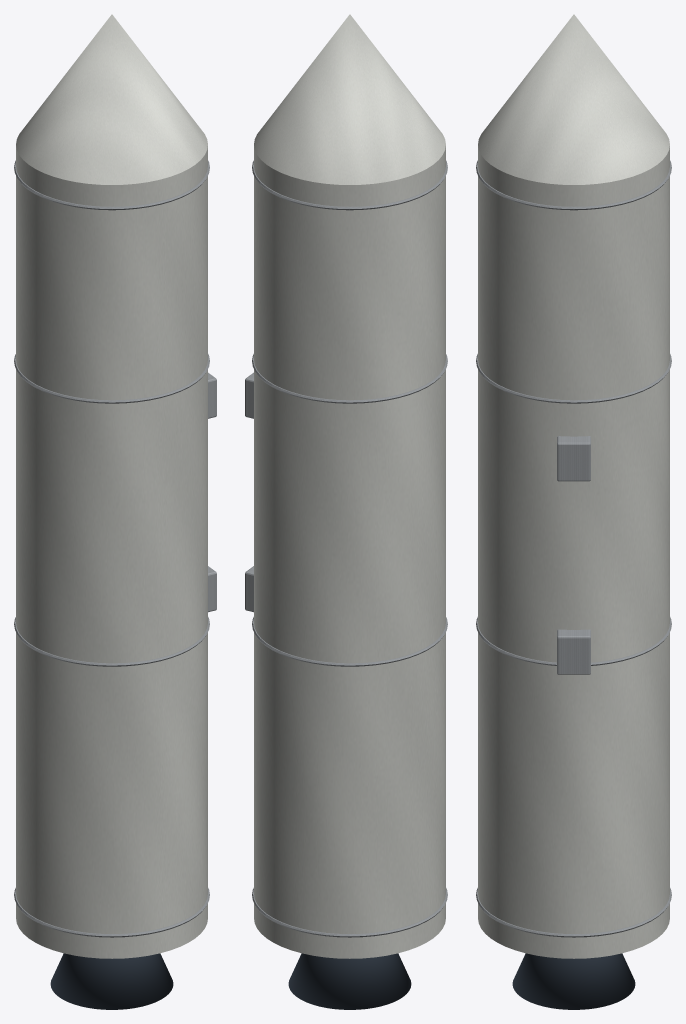
File: booster_medium.glb
3 views of the same model, side by side, from view 1: azimuth 30°, elevation 25°; view 2: azimuth 150°, elevation 25°; view 3: azimuth 270°, elevation 25° (orthographic).
Visible parts, largest first — view 1: Booster_Casing.001, Booster_Nose.001, Booster_Nozzle.001, Booster_CaseSeam.007, Booster_CaseSeam.006, Booster_CaseSeam.005, Booster_CaseSeam.004; view 2: Booster_Casing.001, Booster_Nose.001, Booster_Nozzle.001, Booster_CaseSeam.007, Booster_CaseSeam.006, Booster_CaseSeam.005, Booster_CaseSeam.004; view 3: Booster_Casing.001, Booster_Nose.001, Booster_Nozzle.001, Booster_AttachmentLug.003, Booster_AttachmentLug.002, Booster_CaseSeam.007, Booster_CaseSeam.006, Booster_CaseSeam.004, Booster_CaseSeam.005.
Part boxes in pixels (x1,y1,x2,y2): Booster_Casing.001: (16,146,207,958); Booster_Nose.001: (16,14,207,184); Booster_Nozzle.001: (50,953,173,1009); Booster_CaseSeam.007: (14,160,209,210); Booster_CaseSeam.006: (14,354,209,403); Booster_CaseSeam.005: (14,617,209,666); Booster_CaseSeam.004: (14,888,209,937); Booster_Casing.001: (254,146,445,958); Booster_Nose.001: (254,14,445,184); Booster_Nozzle.001: (288,953,411,1009); Booster_CaseSeam.007: (252,160,447,210); Booster_CaseSeam.006: (252,354,447,403); Booster_CaseSeam.005: (252,617,447,666); Booster_CaseSeam.004: (252,888,447,937); Booster_Casing.001: (478,146,669,958); Booster_Nose.001: (478,14,669,184); Booster_Nozzle.001: (512,953,635,1009); Booster_AttachmentLug.003: (557,436,590,481); Booster_AttachmentLug.002: (557,629,590,674); Booster_CaseSeam.007: (476,160,671,210); Booster_CaseSeam.006: (476,354,671,403); Booster_CaseSeam.004: (476,888,671,937); Booster_CaseSeam.005: (476,617,671,665).
Size of the model in its own units: 0.984 by 5.02 by 0.918.
3 materials, 2 textured.
